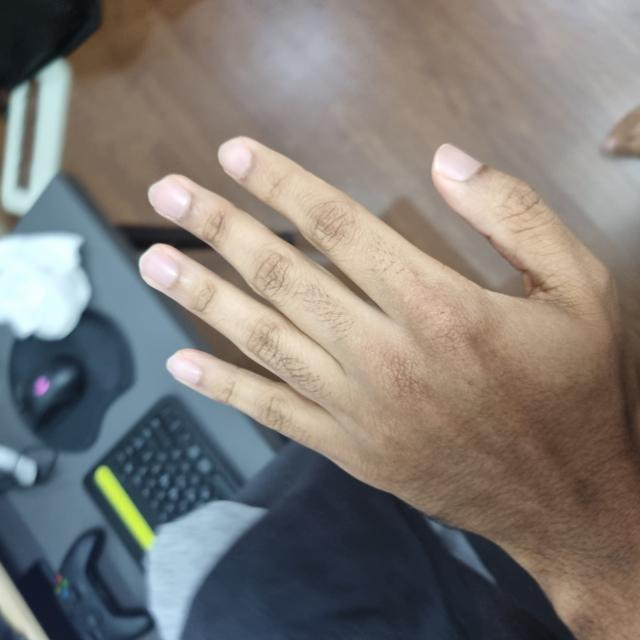Paper: (85, 142, 496, 639)
